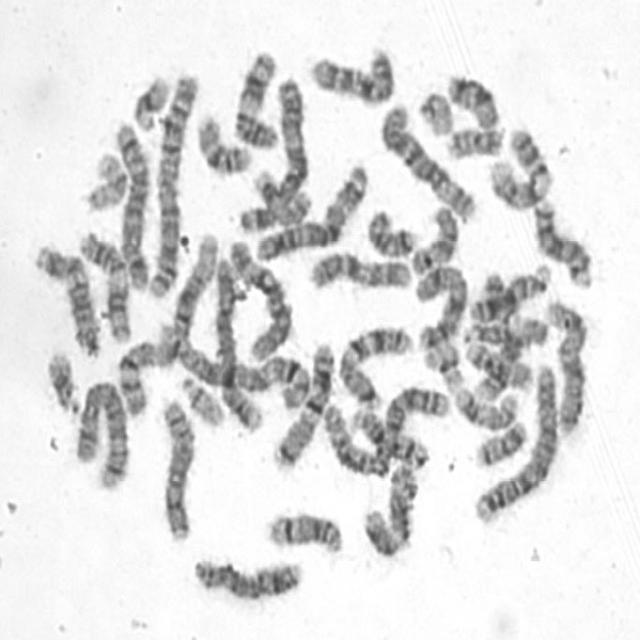A1: (113, 225, 222, 421), (152, 316, 314, 412)
A2: (319, 380, 452, 480), (145, 65, 200, 301)
A3: (248, 156, 369, 264), (234, 73, 310, 235)
B4: (468, 355, 561, 526), (209, 248, 267, 434)
B5: (108, 112, 153, 294), (70, 373, 130, 493)
C10: (304, 38, 396, 107), (304, 245, 414, 293)
C11: (72, 224, 132, 345), (227, 43, 281, 151)
C12: (28, 236, 104, 360), (357, 454, 419, 560)
C6: (375, 96, 479, 223), (225, 232, 296, 363)
C7: (267, 335, 336, 472), (333, 316, 415, 409)
C8: (154, 389, 197, 545), (187, 548, 305, 603)
C9: (482, 120, 555, 213), (471, 269, 521, 402)
D13: (528, 191, 595, 290), (465, 258, 554, 324)
D14: (343, 401, 429, 470), (259, 504, 346, 556)
D15: (405, 198, 461, 277), (455, 312, 551, 349)
E16: (190, 105, 254, 177), (465, 341, 535, 398)
E17: (247, 162, 313, 228), (449, 379, 521, 433)
E18: (441, 66, 501, 131), (361, 202, 419, 260)
F19: (78, 145, 131, 214), (419, 334, 466, 393)
F20: (470, 412, 530, 470), (440, 118, 506, 161)
G21: (39, 342, 82, 416), (126, 66, 172, 133)
G22: (175, 369, 226, 429), (412, 85, 455, 138)
X: (540, 292, 590, 438), (409, 256, 471, 355)
